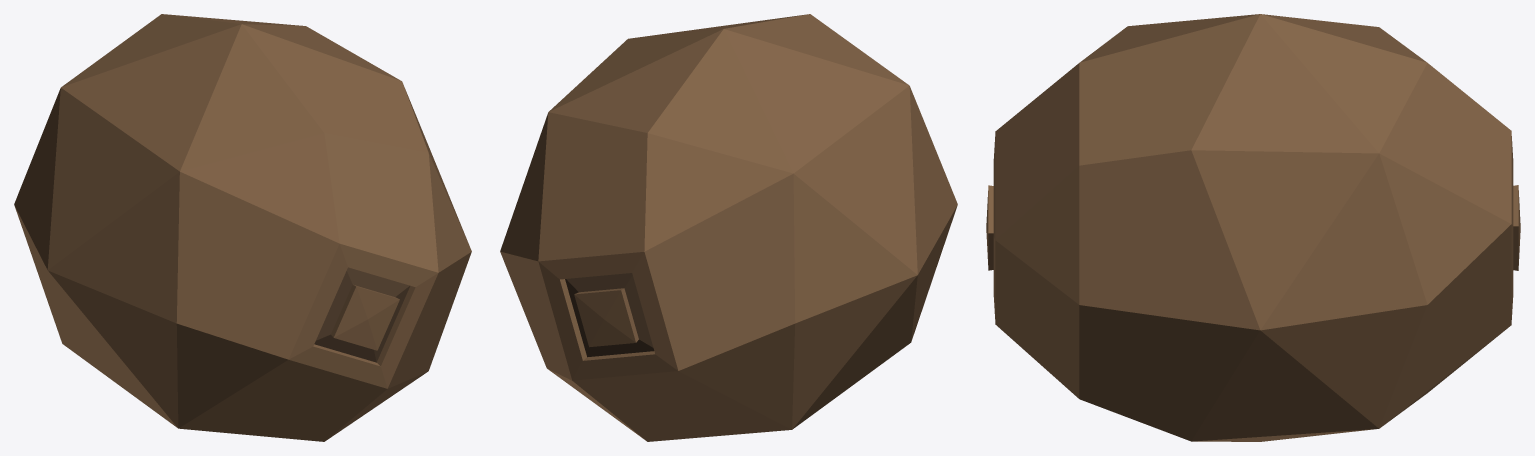
The model's file is kiwi.fbx.
3 views of the same model, side by side, from view 1: azimuth 30°, elevation 25°; view 2: azimuth 150°, elevation 25°; view 3: azimuth 270°, elevation 25° (orthographic). The views are drawn at different scales.
Visible parts, largest first — view 1: Sphere; view 2: Sphere; view 3: Sphere.
Part boxes in pixels (left/top/right/bottom): Sphere: left=14, top=14, right=471, bottom=441; Sphere: left=500, top=14, right=957, bottom=441; Sphere: left=986, top=14, right=1520, bottom=441.
Size of the model in its own units: 72.36 by 72.36 by 81.5.
